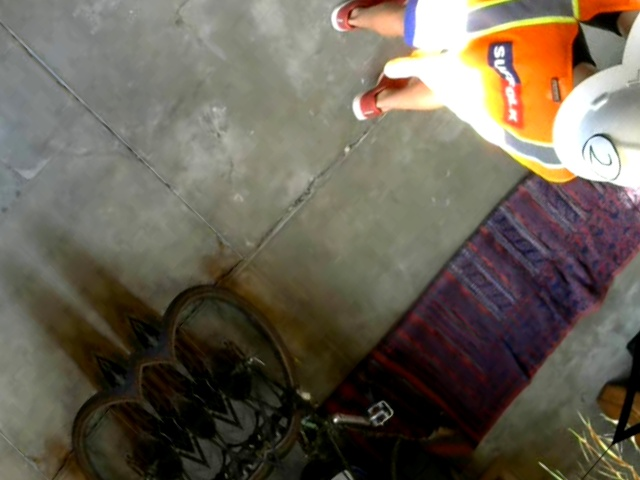two: (573, 128, 628, 187)
